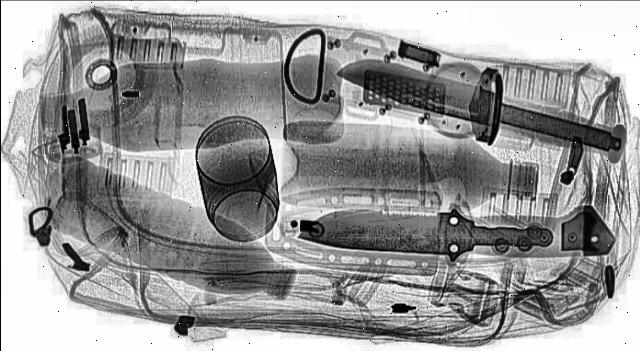Knife: (294, 30, 640, 170), (296, 201, 550, 263)
